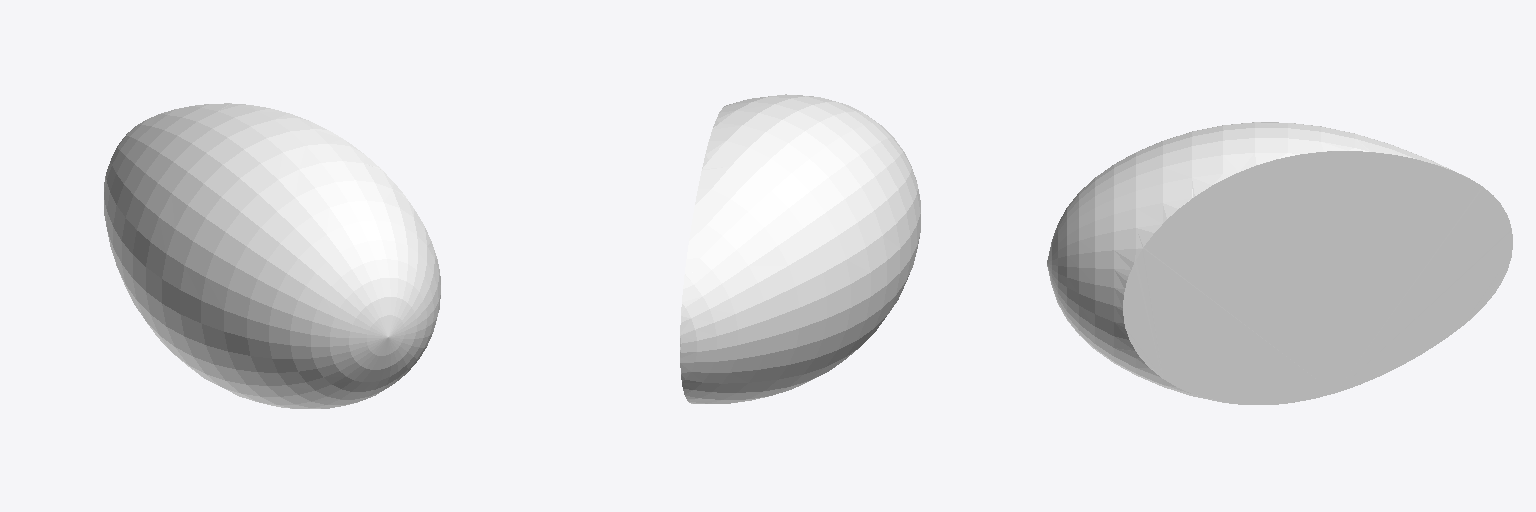
Rendered from hand_ascii.obj.
3 views of the same model, side by side, from view 1: azimuth 30°, elevation 25°; view 2: azimuth 150°, elevation 25°; view 3: azimuth 270°, elevation 25° (orthographic).
Visible parts, largest first — view 1: Object__0; view 2: Object__0; view 3: Object__0.
Part boxes in pixels (x1,y1,x2,y2): Object__0: (104,103,440,408); Object__0: (680,94,920,403); Object__0: (1047,122,1512,404).
Bounding box in the file's own units: 0.0773 × 0.089 × 0.1463.